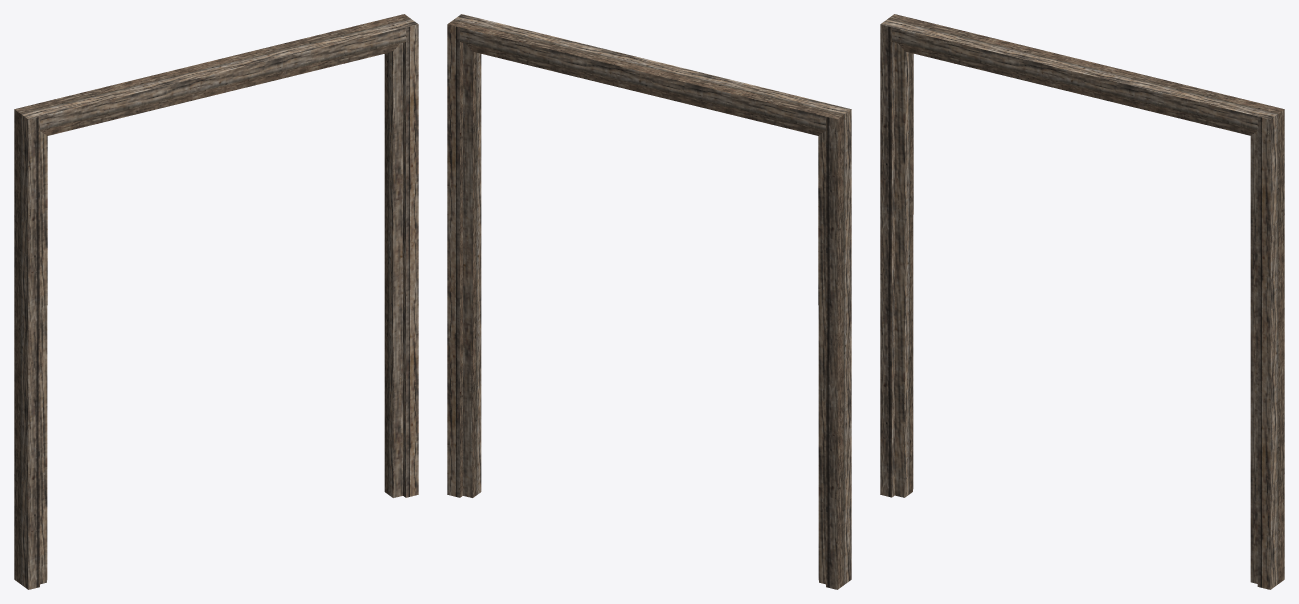
File: _Doorway_2.FBX
3 renders of one model, left to right at view 1: azimuth 30°, elevation 25°; view 2: azimuth 150°, elevation 25°; view 3: azimuth 330°, elevation 25°, orthographic.
Parts seen in each view (by area): view 1: _Doorway_2; view 2: _Doorway_2; view 3: _Doorway_2.
Part boxes in pixels (x1,y1,x2,y2): _Doorway_2: (14,14,418,589); _Doorway_2: (447,14,851,589); _Doorway_2: (880,14,1284,589).
Size of the model in its own units: 197 by 227 by 12.4.
1 material, 1 textured.
